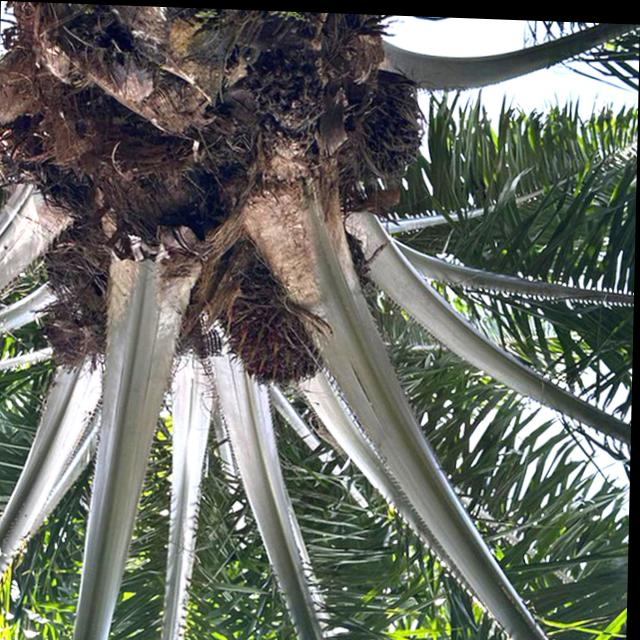ripe: (351, 73, 427, 191), (239, 288, 319, 386)
